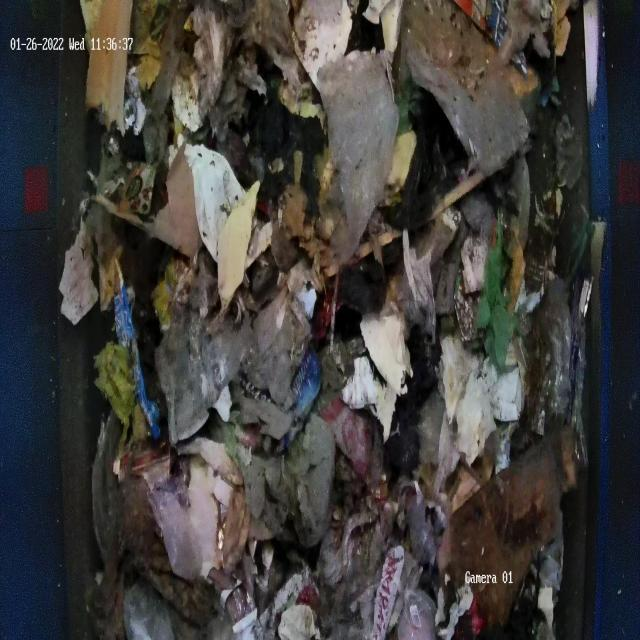cardboard: (58, 0, 606, 638)
